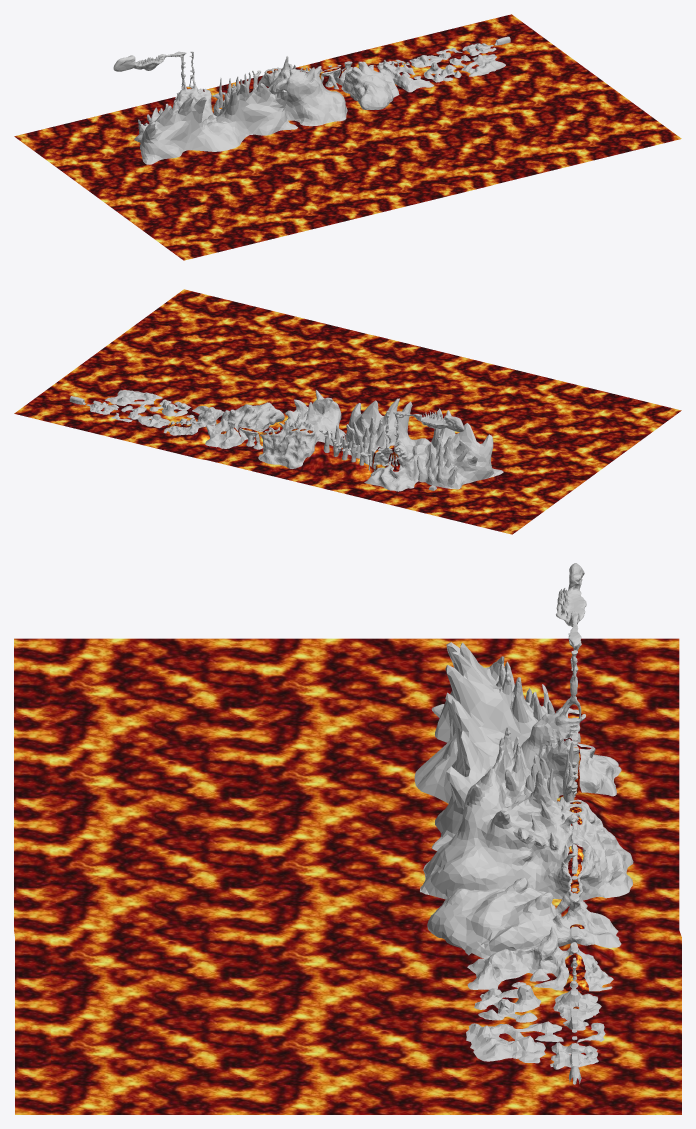
The model's file is Level 02 Old.fbx.
3 renders of one model, top to bottom at view 1: azimuth 30°, elevation 25°; view 2: azimuth 150°, elevation 25°; view 3: azimuth 270°, elevation 25°, orthographic. The views are drawn at different scales.
Parts seen in each view (by area): view 1: lavaLake, back4, back3, piece4, piece3, piece8, back1, piece9, back2, piece7; view 2: lavaLake, back4, piece6, piece4, piece8, back3, piece3, back1, piece7, piece9, back2; view 3: lavaLake, back4, back3, piece4, piece6, piece8, piece3, back1, back2, piece2, piece9, piece1.
Boxes of the visible parts, x1,y1,x2,y2 form: lavaLake: [14, 14, 681, 260]; back4: [134, 83, 297, 164]; back3: [267, 56, 347, 126]; piece4: [333, 61, 399, 109]; piece3: [375, 59, 434, 92]; piece8: [175, 52, 213, 120]; back1: [436, 48, 505, 76]; piece9: [113, 53, 186, 71]; back2: [424, 62, 461, 82]; piece7: [212, 71, 260, 107]; lavaLake: [14, 289, 681, 534]; back4: [345, 398, 503, 489]; piece6: [258, 421, 323, 468]; piece4: [205, 402, 284, 448]; piece8: [364, 411, 418, 491]; back3: [284, 390, 345, 447]; piece3: [163, 406, 223, 435]; back1: [105, 390, 162, 422]; piece7: [319, 425, 367, 465]; piece9: [393, 410, 464, 432]; back2: [149, 399, 191, 416]; lavaLake: [14, 638, 681, 1114]; back4: [414, 642, 559, 850]; back3: [420, 768, 562, 899]; piece4: [427, 877, 621, 958]; piece6: [543, 796, 633, 900]; piece8: [521, 649, 621, 796]; piece3: [467, 926, 613, 991]; back1: [466, 1021, 605, 1063]; back2: [474, 985, 541, 1022]; piece2: [553, 989, 601, 1030]; piece9: [556, 563, 586, 650]; piece1: [550, 1042, 598, 1069].
Size of the model in its own units: 1600 by 253 by 948.
